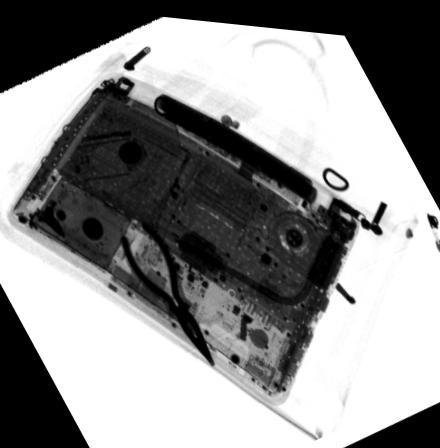Pliers: (119, 215, 215, 362)
